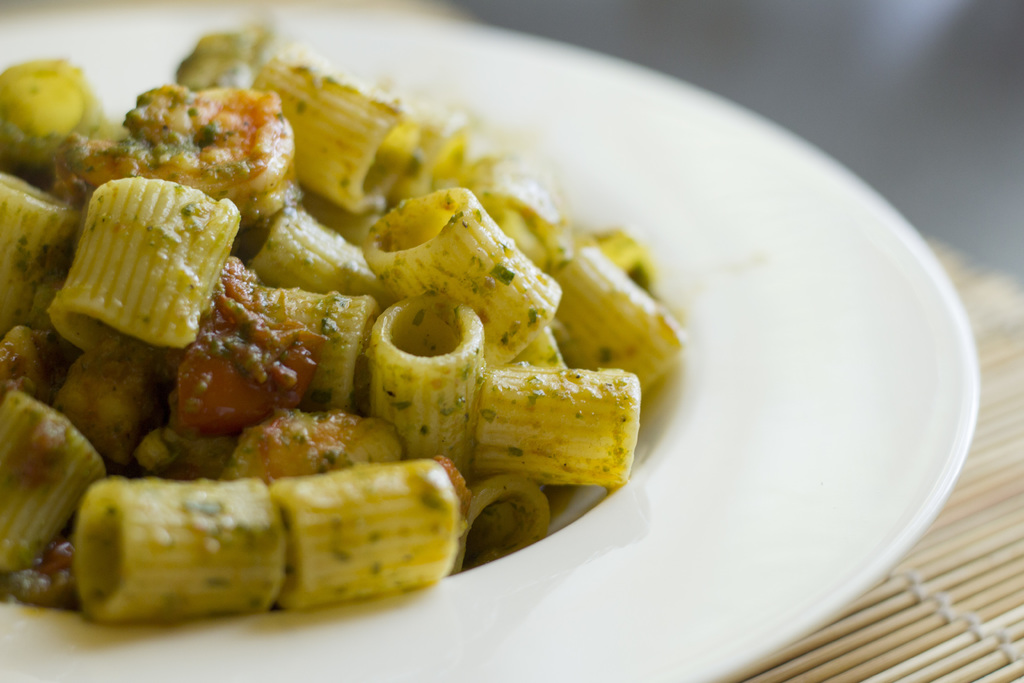pasta: (0, 20, 742, 639)
